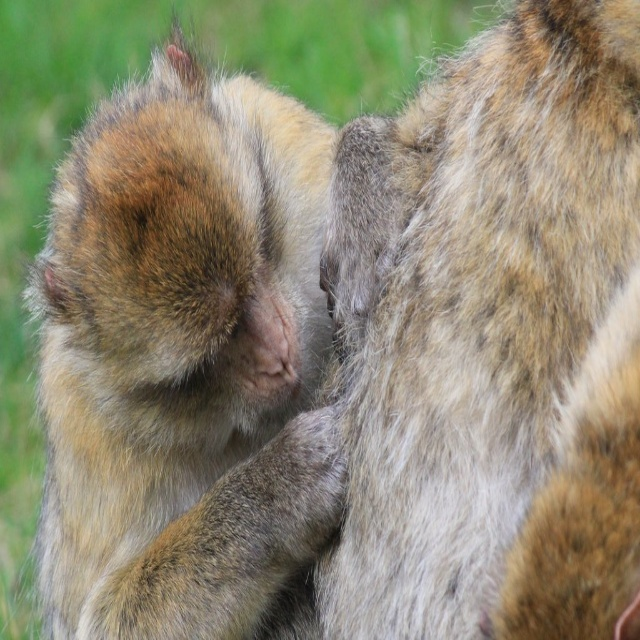Monkey: (322, 0, 639, 639), (18, 8, 339, 639)
